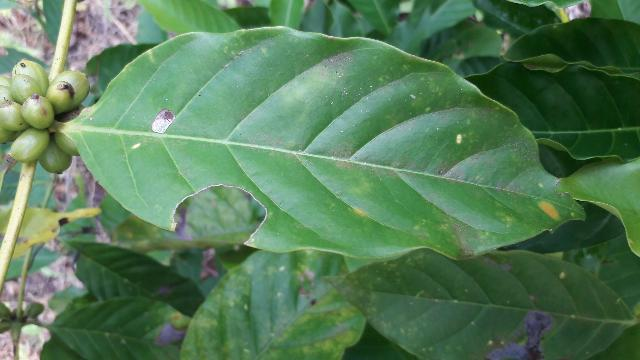rust_level_1: (67, 30, 571, 258)
